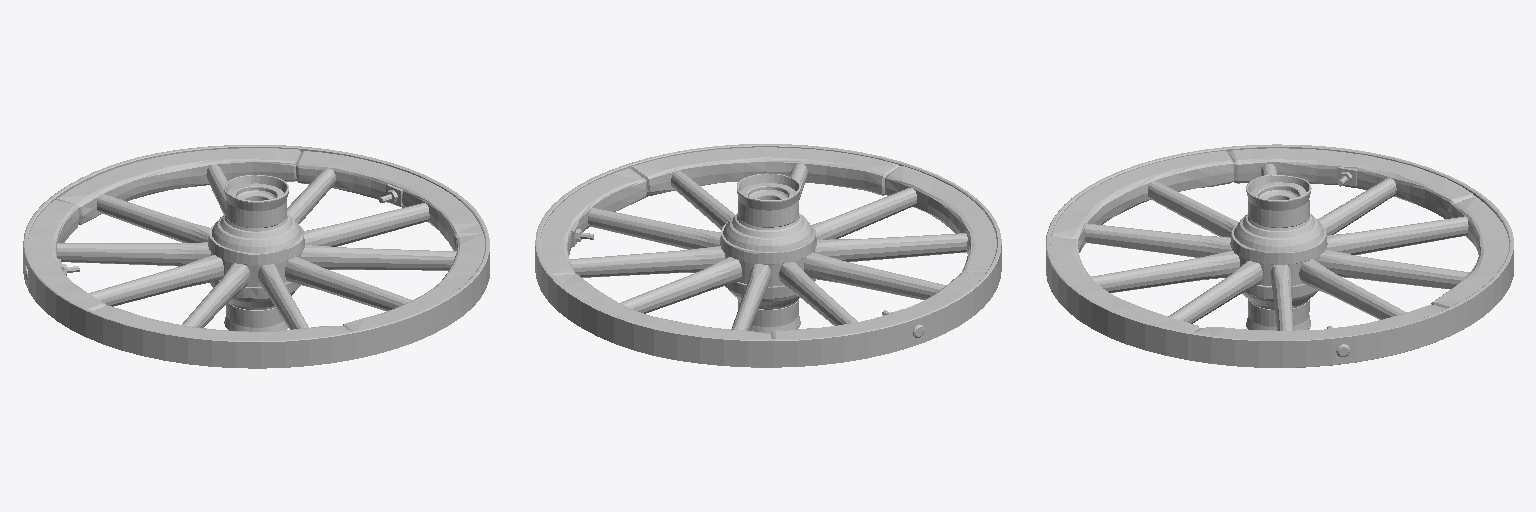
Rendered from 3D_wheel_LP_smooth.obj.
The picture shows the model from 3 angles: view 1: azimuth 30°, elevation 25°; view 2: azimuth 150°, elevation 25°; view 3: azimuth 270°, elevation 25°; orthographic projection.
Parts seen in each view (by area): view 1: 3D_wheel-rama_wood-LP_Circle.019, 3D_wheel_szprychy_krzywe-LP_Cube.009, 3D_wheel-rama_metal-LP_Circle.021, 3D_wheel_os-LP_Circle.029; view 2: 3D_wheel-rama_wood-LP_Circle.019, 3D_wheel_szprychy_krzywe-LP_Cube.009, 3D_wheel-rama_metal-LP_Circle.021, 3D_wheel_os-LP_Circle.029; view 3: 3D_wheel-rama_wood-LP_Circle.019, 3D_wheel_szprychy_krzywe-LP_Cube.009, 3D_wheel-rama_metal-LP_Circle.021, 3D_wheel_os-LP_Circle.029.
Boxes of the visible parts, x1,y1,x2,y2 form: 3D_wheel-rama_wood-LP_Circle.019: [28, 148, 484, 339]; 3D_wheel_szprychy_krzywe-LP_Cube.009: [57, 165, 456, 329]; 3D_wheel-rama_metal-LP_Circle.021: [23, 145, 489, 368]; 3D_wheel_os-LP_Circle.029: [208, 175, 304, 331]; 3D_wheel-rama_wood-LP_Circle.019: [540, 147, 996, 338]; 3D_wheel_szprychy_krzywe-LP_Cube.009: [569, 163, 967, 330]; 3D_wheel-rama_metal-LP_Circle.021: [535, 144, 1001, 367]; 3D_wheel_os-LP_Circle.029: [720, 173, 816, 333]; 3D_wheel-rama_wood-LP_Circle.019: [1050, 148, 1508, 339]; 3D_wheel_szprychy_krzywe-LP_Cube.009: [1085, 164, 1469, 330]; 3D_wheel-rama_metal-LP_Circle.021: [1046, 144, 1513, 367]; 3D_wheel_os-LP_Circle.029: [1230, 175, 1327, 330].
Bounding box in the file's own units: 3.71 × 1.21 × 3.73.